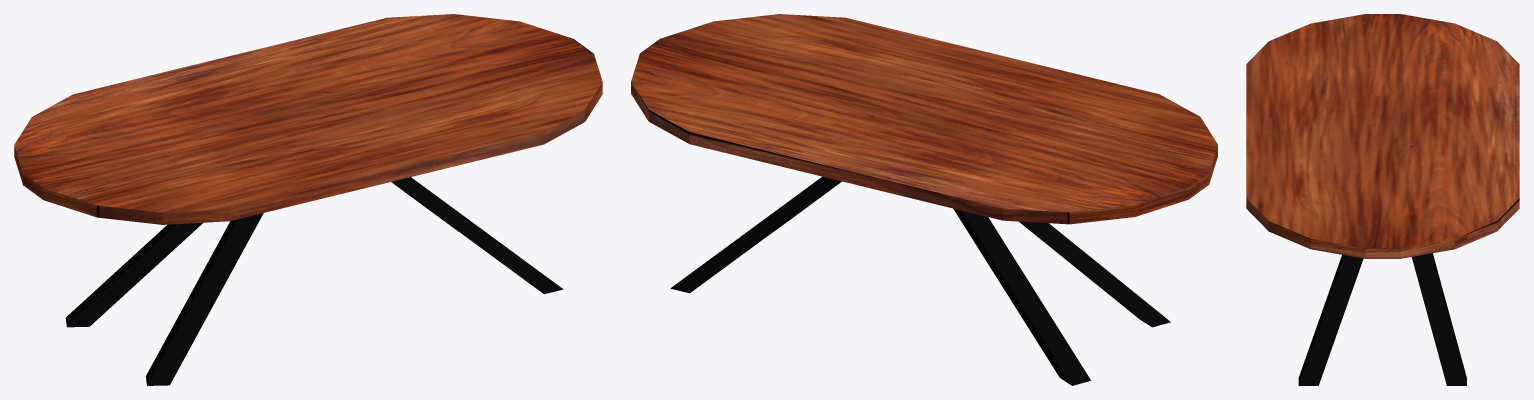
Rendered from stol_szef.glb.
3 views of the same model, side by side, from view 1: azimuth 30°, elevation 25°; view 2: azimuth 150°, elevation 25°; view 3: azimuth 270°, elevation 25° (orthographic). The views are drawn at different scales.
Visible parts, largest first — view 1: Cube.042; view 2: Cube.042; view 3: Cube.042.
Part boxes in pixels (box(x1,y1,x2,y2)): Cube.042: box(14, 14, 602, 385); Cube.042: box(631, 14, 1217, 385); Cube.042: box(1246, 14, 1519, 385).
Bounding box in the file's own units: 4.05 × 1.35 × 2.
Materials: 1 (1 with a texture image).
